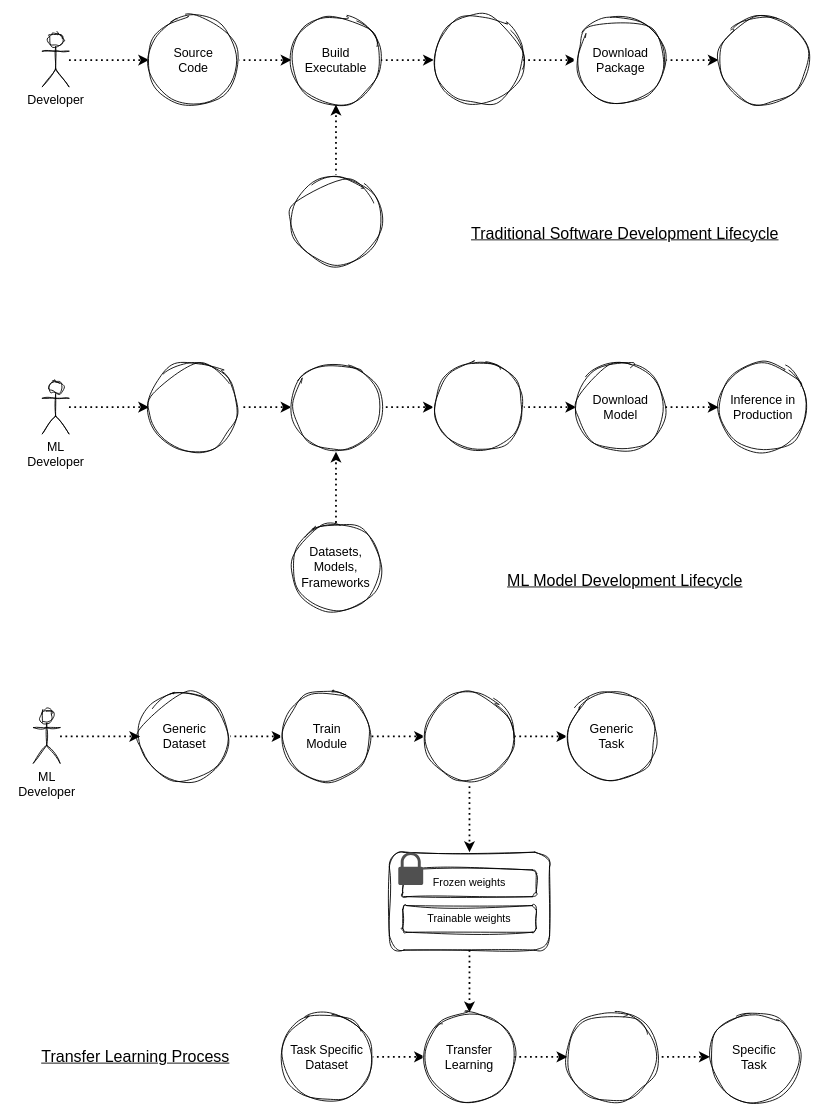
The diagram is 831 pixels wide and 1117 high, and some of its shapes have lost their labels. Here are the shapes that lost their labels. From the top down, the centre of each, then its label:
the point at 478,60: Deploy to Package Repository
the point at 763,60: Production Service
the point at 335,220: External Dependencies
the point at 193,407: Model Source
the point at 335,407: Train Model
the point at 478,407: Deploy to Model hub
the point at 469,736: Generic Model
the point at 611,1056: Specific Model
